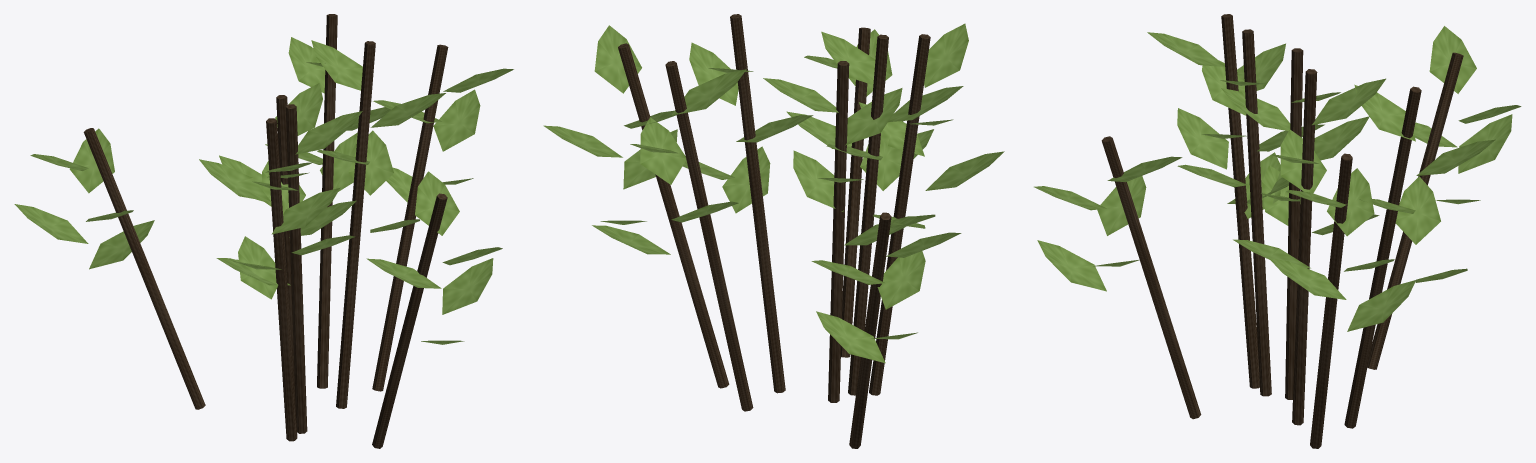
The model's file is thorn_bush.glb.
3 views of the same model, side by side, from view 1: azimuth 30°, elevation 25°; view 2: azimuth 150°, elevation 25°; view 3: azimuth 270°, elevation 25° (orthographic). The views are drawn at different scales.
Visible parts, largest first — view 1: thorn_bush; view 2: thorn_bush; view 3: thorn_bush.
Part boxes in pixels (x1,y1,x2,y2): thorn_bush: [14, 14, 513, 448]; thorn_bush: [543, 14, 1004, 448]; thorn_bush: [1034, 14, 1521, 448].
Bounding box in the file's own units: 1.59 × 1.27 × 1.52.
Materials: 1 (1 with a texture image).
